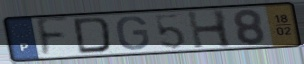5: (153, 12, 188, 50)
8: (231, 8, 268, 46)
D: (71, 15, 114, 55)
F: (35, 15, 72, 60)
G: (115, 15, 152, 52)
H: (185, 9, 235, 51)
